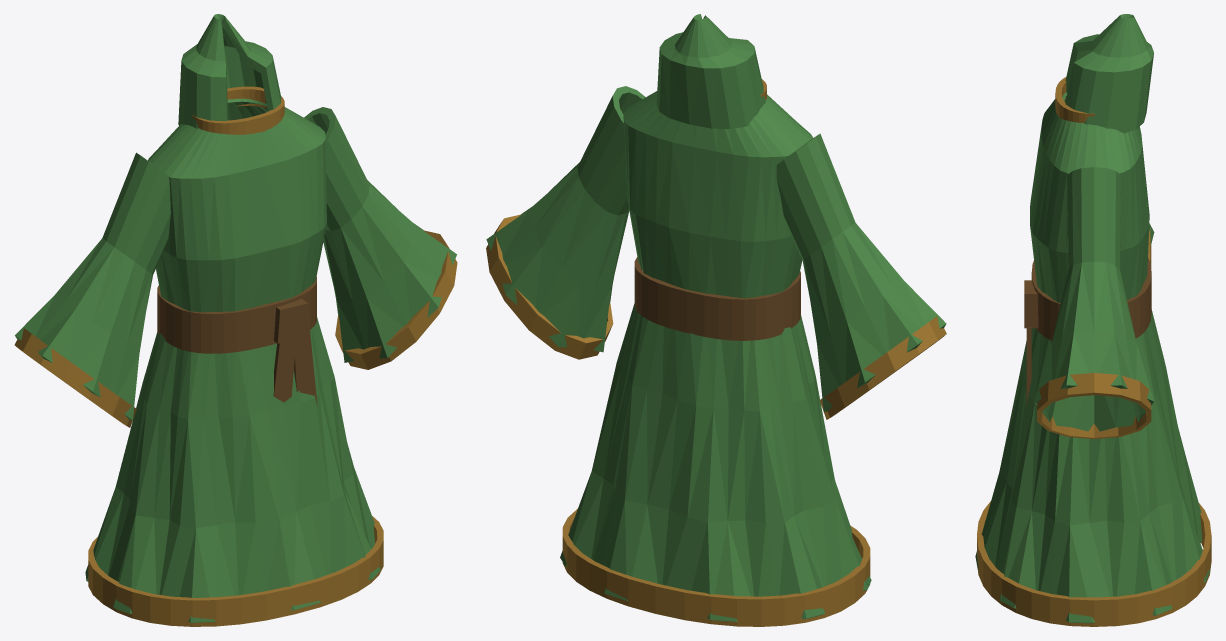
File: sage_robe.obj
3 views of the same model, side by side, from view 1: azimuth 30°, elevation 25°; view 2: azimuth 150°, elevation 25°; view 3: azimuth 270°, elevation 25° (orthographic). The views are drawn at different scales.
Visible parts, largest first — view 1: A_Body.001_sage_robe_cloth, C_Sleeve.001_sage_robe_cloth, D_HemTrim.001_sage_robe_trim, B_Hood.001_sage_robe_cloth, E_Sash.001_sage_robe_sash, C_Cuff.001_sage_robe_trim, D_NeckTrim.001_sage_robe_trim, E_Knot.001_sage_robe_sash, E_Tail0.001_sage_robe_sash, E_Tail1.001_sage_robe_sash; view 2: A_Body.001_sage_robe_cloth, C_Sleeve.001_sage_robe_cloth, D_HemTrim.001_sage_robe_trim, B_Hood.001_sage_robe_cloth, E_Sash.001_sage_robe_sash, C_Cuff.001_sage_robe_trim; view 3: A_Body.001_sage_robe_cloth, C_Sleeve.001_sage_robe_cloth, B_Hood.001_sage_robe_cloth, D_HemTrim.001_sage_robe_trim, C_Cuff.001_sage_robe_trim, E_Sash.001_sage_robe_sash, D_NeckTrim.001_sage_robe_trim, E_Knot.001_sage_robe_sash, E_Tail1.001_sage_robe_sash.
Boxes of the visible parts, bbox=[...] form: A_Body.001_sage_robe_cloth: bbox=[85, 98, 380, 622]; C_Sleeve.001_sage_robe_cloth: bbox=[15, 107, 456, 420]; D_HemTrim.001_sage_robe_trim: bbox=[88, 516, 383, 626]; B_Hood.001_sage_robe_cloth: bbox=[178, 14, 281, 128]; E_Sash.001_sage_robe_sash: bbox=[157, 277, 316, 353]; C_Cuff.001_sage_robe_trim: bbox=[14, 230, 457, 427]; D_NeckTrim.001_sage_robe_trim: bbox=[192, 86, 284, 134]; E_Knot.001_sage_robe_sash: bbox=[274, 298, 310, 343]; E_Tail0.001_sage_robe_sash: bbox=[273, 340, 294, 402]; E_Tail1.001_sage_robe_sash: bbox=[294, 335, 317, 404]; A_Body.001_sage_robe_cloth: bbox=[560, 91, 871, 621]; C_Sleeve.001_sage_robe_cloth: bbox=[486, 86, 946, 411]; D_HemTrim.001_sage_robe_trim: bbox=[562, 508, 870, 626]; B_Hood.001_sage_robe_cloth: bbox=[656, 14, 765, 128]; E_Sash.001_sage_robe_sash: bbox=[634, 257, 800, 340]; C_Cuff.001_sage_robe_trim: bbox=[486, 214, 946, 419]; A_Body.001_sage_robe_cloth: bbox=[975, 92, 1209, 623]; C_Sleeve.001_sage_robe_cloth: bbox=[1034, 167, 1154, 431]; B_Hood.001_sage_robe_cloth: bbox=[1064, 14, 1153, 133]; D_HemTrim.001_sage_robe_trim: bbox=[977, 501, 1211, 626]; C_Cuff.001_sage_robe_trim: bbox=[1037, 228, 1151, 439]; E_Sash.001_sage_robe_sash: bbox=[1031, 258, 1151, 340]; D_NeckTrim.001_sage_robe_trim: bbox=[1055, 77, 1095, 122]; E_Knot.001_sage_robe_sash: bbox=[1024, 280, 1038, 328]; E_Tail1.001_sage_robe_sash: bbox=[1026, 327, 1031, 406].
Bounding box in the file's own units: 3.29 × 4 × 1.57.
